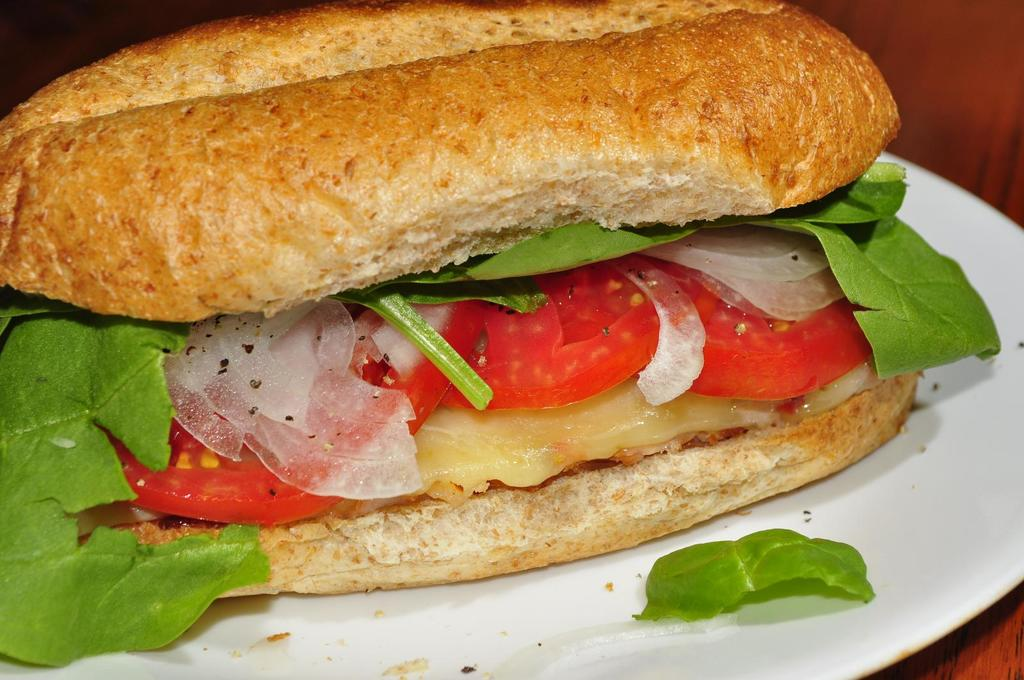Hamburger: (0, 0, 998, 664)
